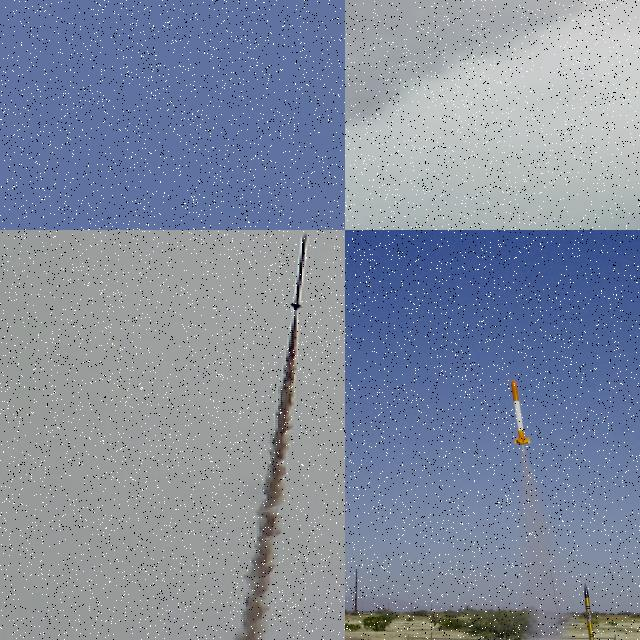Rocket: (288, 231, 309, 311), (509, 379, 533, 446), (583, 582, 602, 640)
